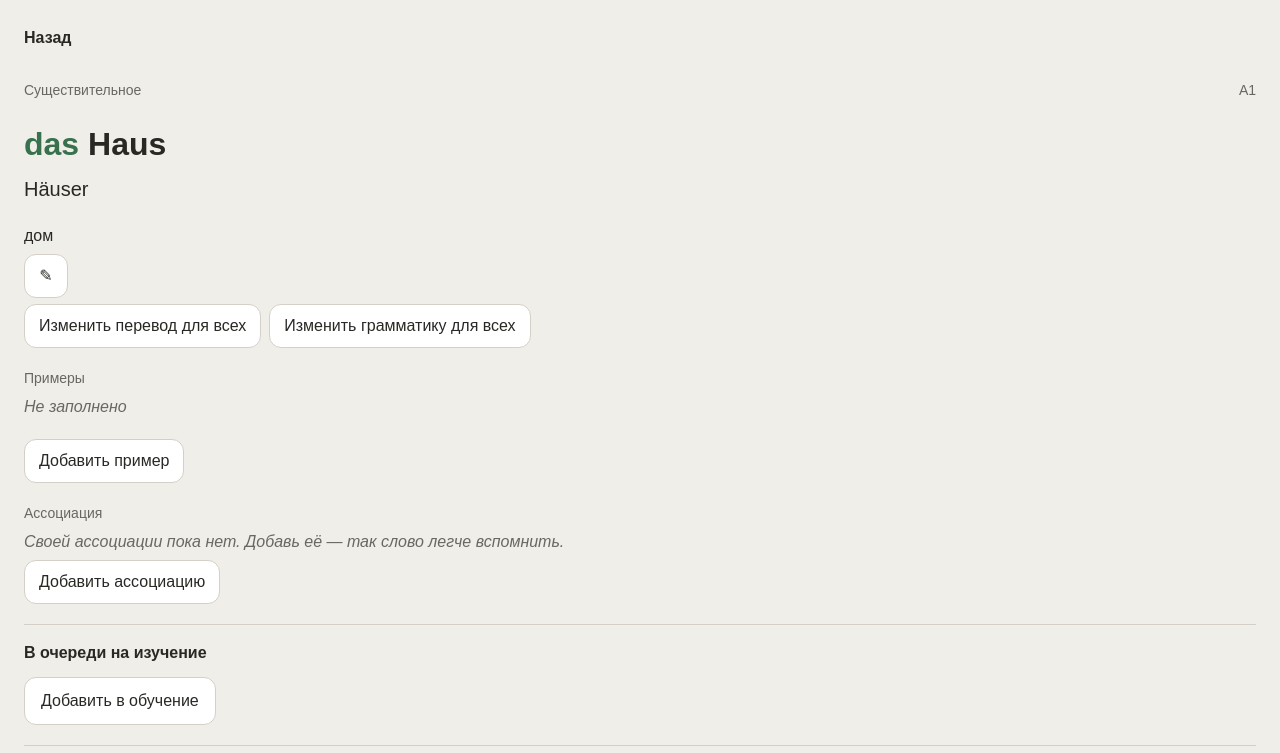
М12 owner common editor in the card host (R12-04…06, R14-01) › W3 R12-06: the cross of the last translation explains the refusal and nothing is sent
Check: the heading "das Haus" is shown, box top-left (24, 126), bottom-right (166, 162)
Click the button "Изменить перевод для всех": (143, 326) top-left (24, 304), bottom-right (261, 348)
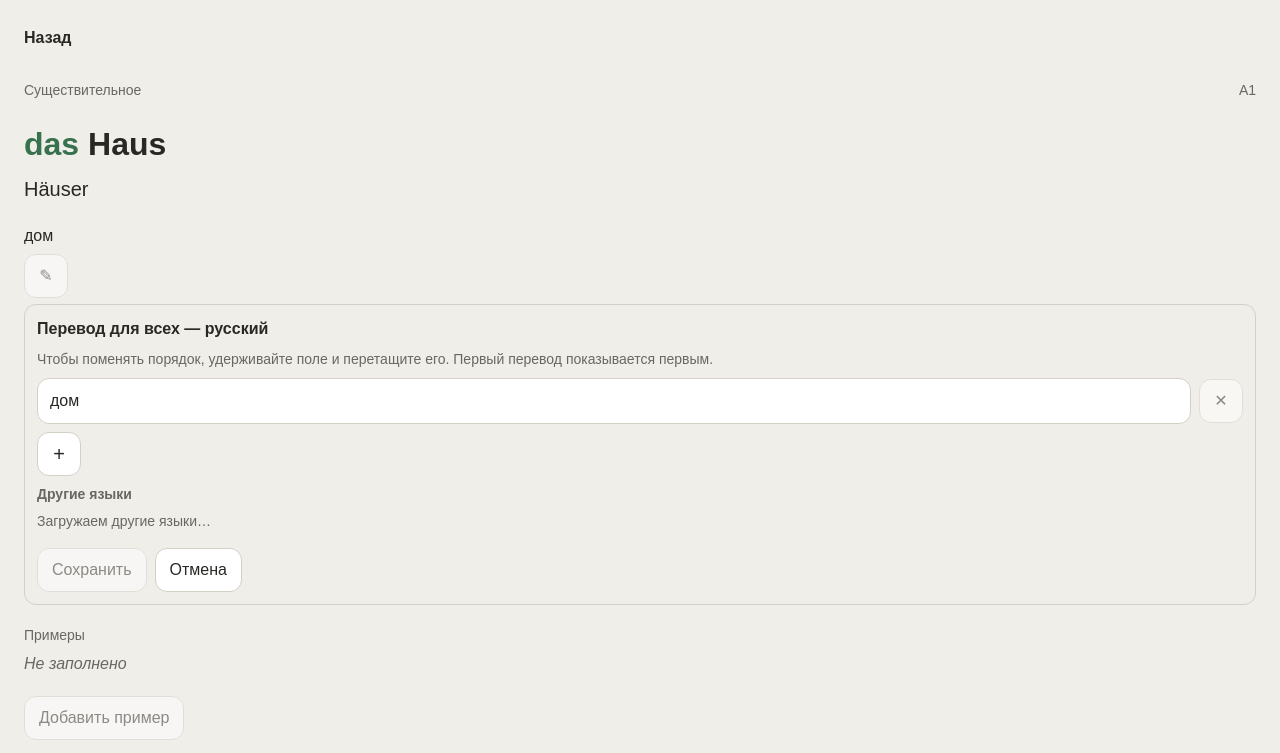
Click the button named "Убрать «дом»": (1221, 401) top-left (1199, 379), bottom-right (1243, 423)
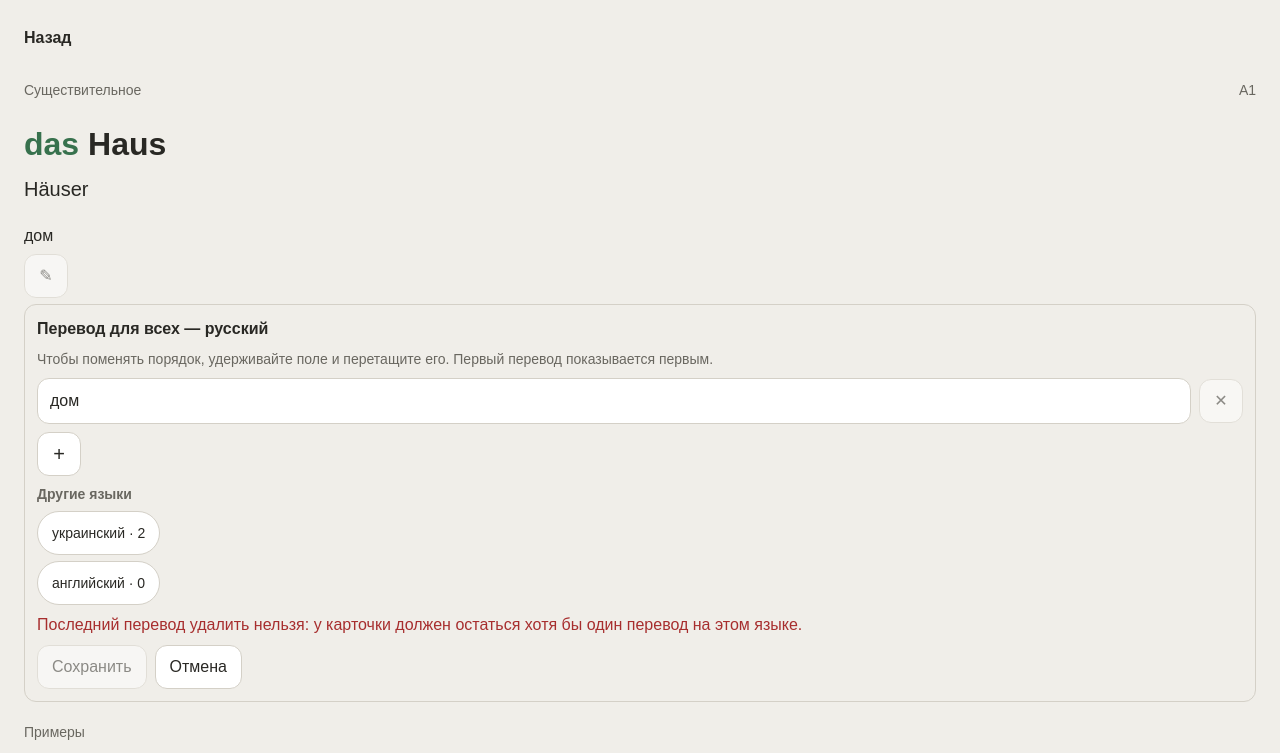
Check: the message shows "Последний перевод удалить нельзя: у карточки должен остаться хотя бы один перевод на этом языке.", box top-left (37, 616), bottom-right (802, 633)
